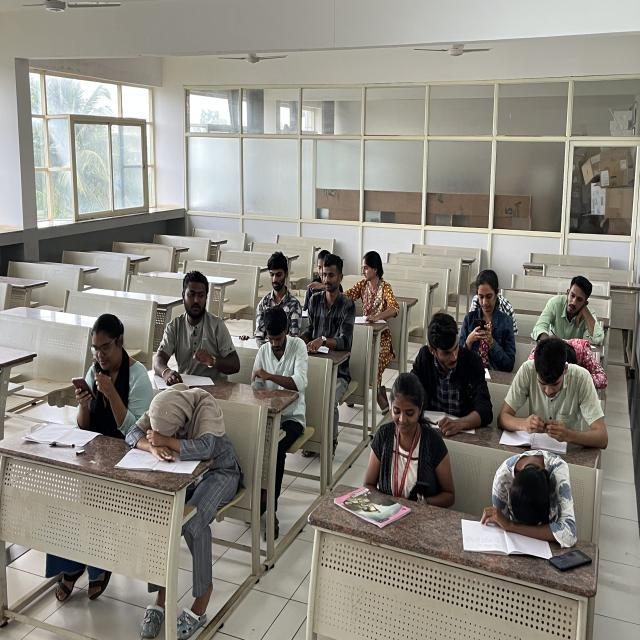Reading: (497, 336, 607, 444)
Sleeping: (133, 365, 240, 510), (478, 444, 586, 541)
Using Phone: (358, 360, 460, 550), (62, 291, 146, 439), (250, 306, 313, 415), (457, 264, 524, 352)
Writing: (156, 274, 244, 392)
